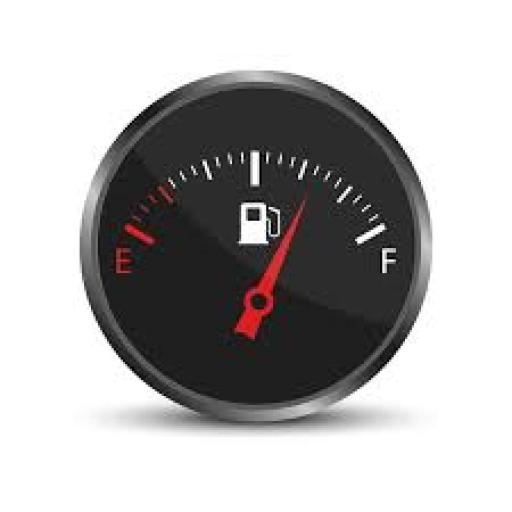empty: (107, 244, 146, 280)
fuel_icon: (235, 196, 282, 249)
full: (375, 242, 406, 279)
guage_area: (69, 61, 451, 444)
needle_center: (225, 273, 289, 356)
needle_tip: (293, 189, 317, 217)
